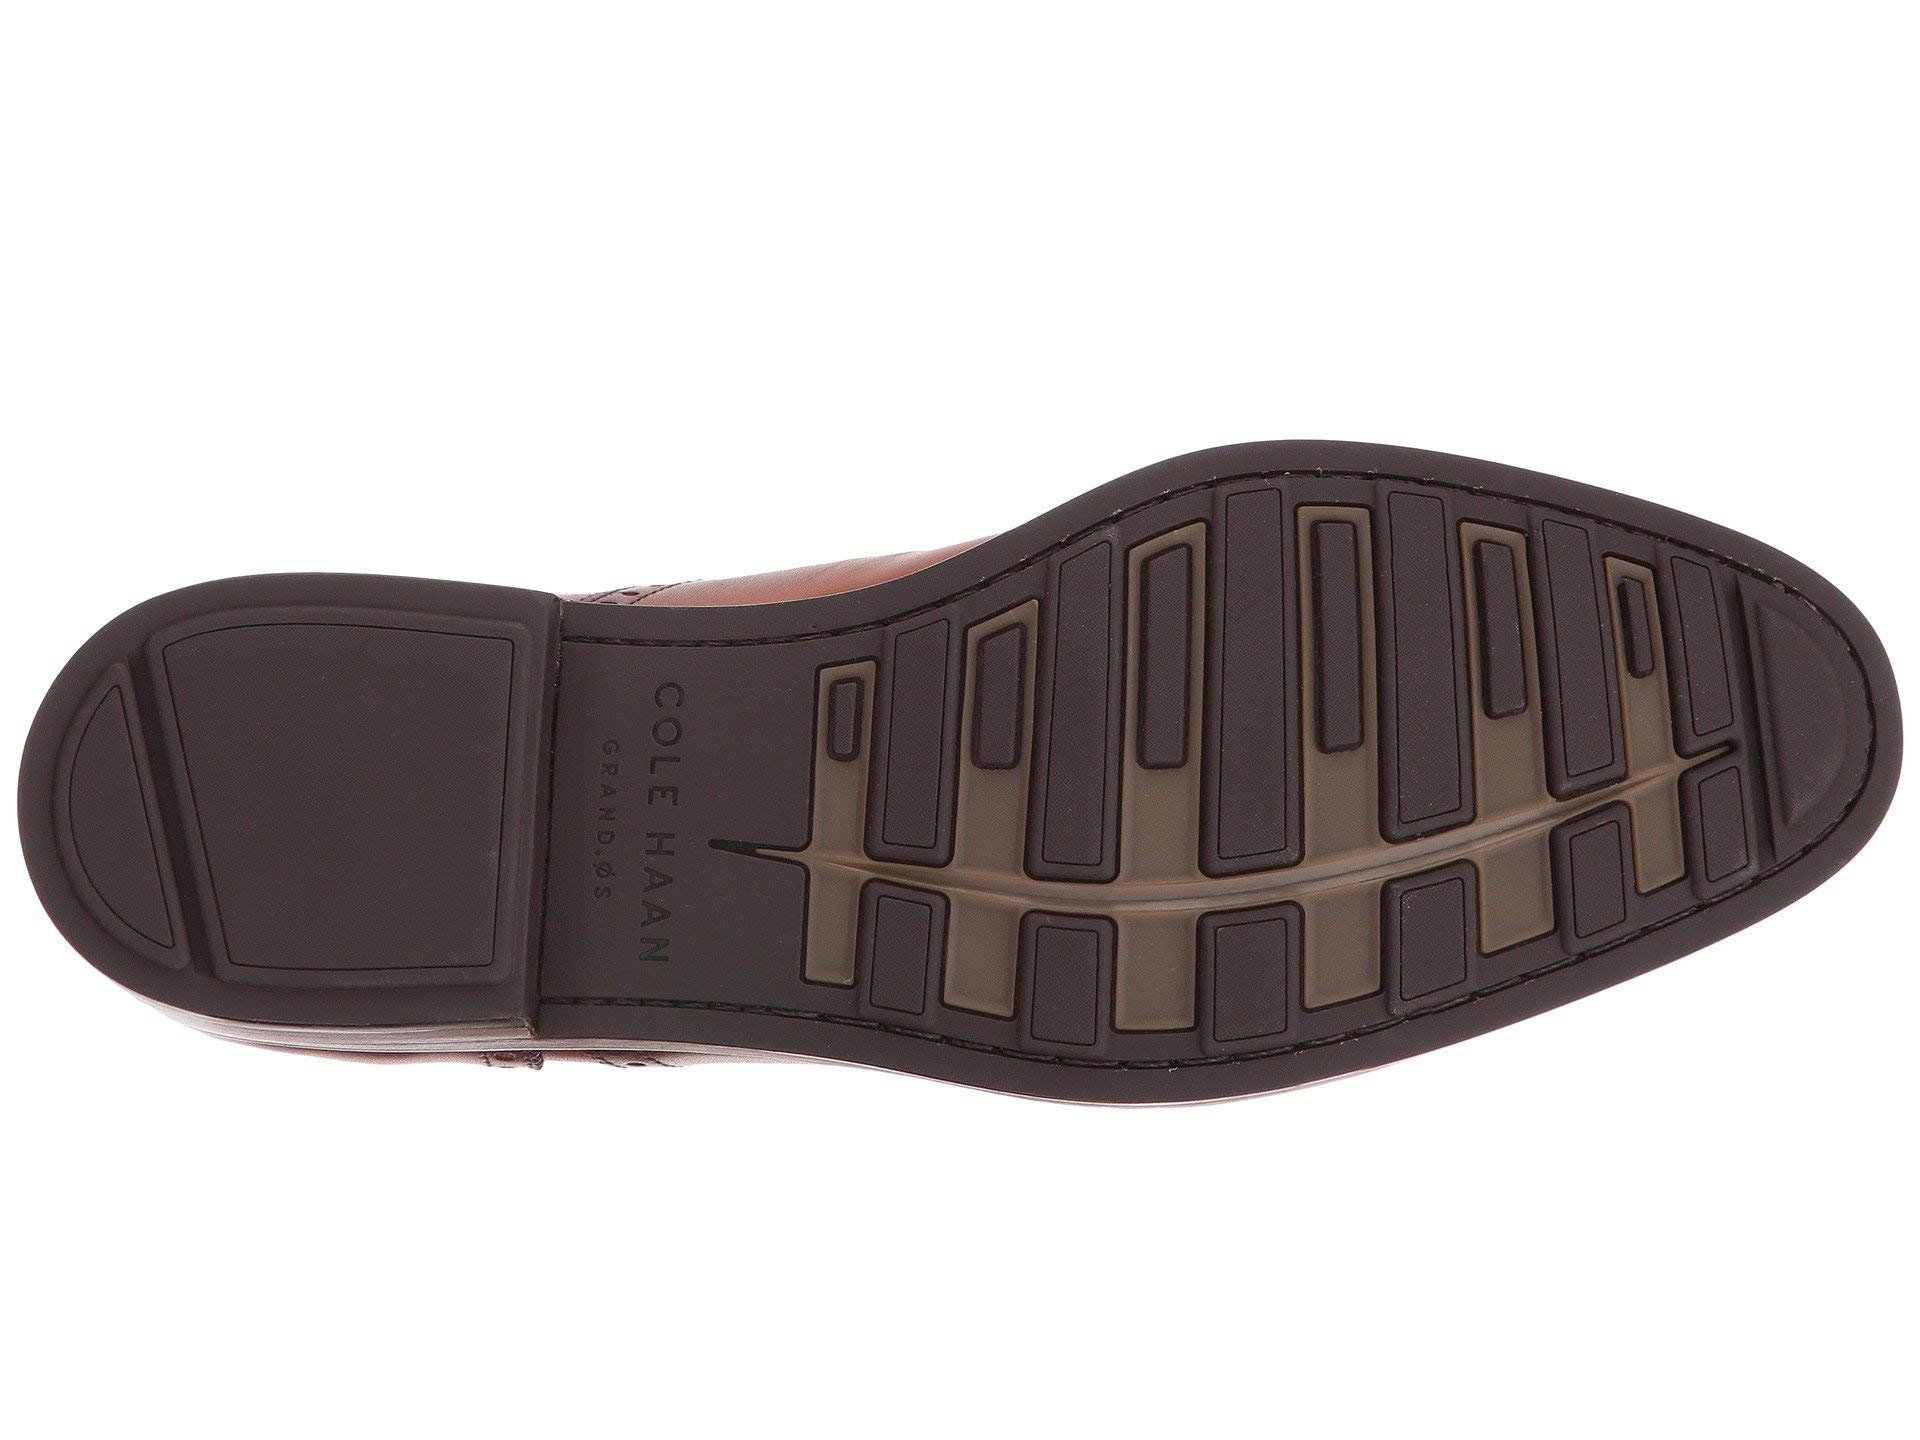quad: (1116, 487, 1726, 968), (132, 610, 535, 998), (993, 888, 1129, 1082), (958, 614, 1037, 787)
